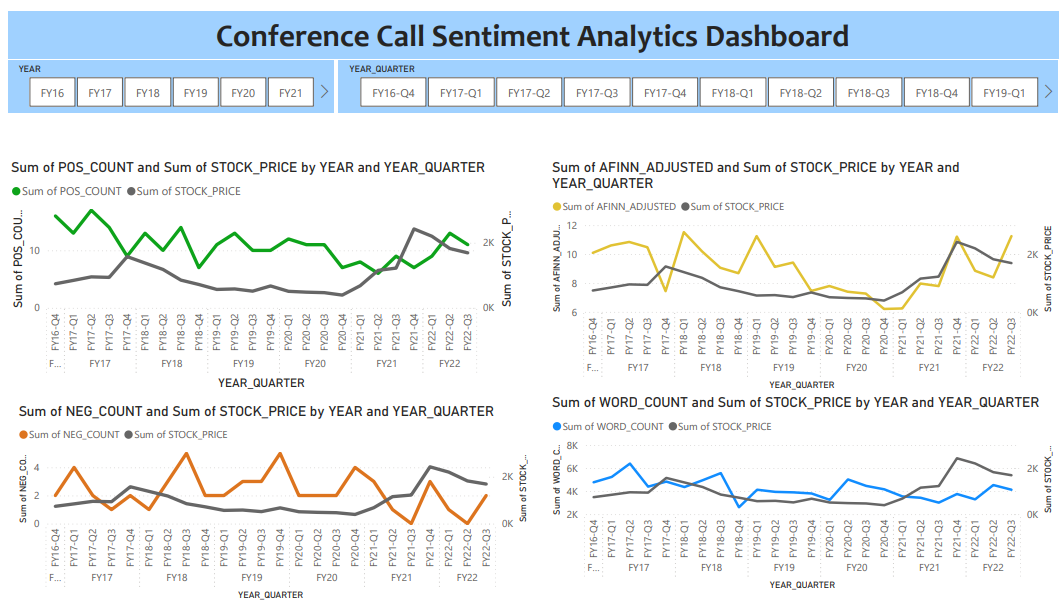

The dashboard page shown, as its layout file describes it:
{"tool":"powerbi","page":{"name":"Dashboard","canvas":[1280,720],"ordinal":5},"visuals":[{"type":"slicer","fields":{"Values":["sentiment_analysis (3).YEAR"]},"box":[12.5,69.2,391.3,62.6],"z":0},{"type":"slicer","fields":{"Values":["sentiment_analysis (3).YEAR_QUARTER"]},"box":[409.6,69.2,862.7,62.6],"z":1000},{"type":"textbox","box":[12.5,10.8,1259.8,56.7],"z":2000},{"type":"lineChart","fields":{"Category":["sentiment_analysis (3).YEAR","sentiment_analysis (3).YEAR_QUARTER"],"Y":["Sum(sentiment_analysis (3).POS_COUNT)"],"Y2":["Sum(sentiment_analysis (3).STOCK_PRICE)"]},"box":[12.4,187,611.8,281.7],"z":3000},{"type":"lineChart","fields":{"Category":["sentiment_analysis (3).YEAR","sentiment_analysis (3).YEAR_QUARTER"],"Y":["Sum(sentiment_analysis (3).NEG_COUNT)"],"Y2":["Sum(sentiment_analysis (3).STOCK_PRICE)"]},"box":[21.4,478.9,620.8,241.1],"z":4000},{"type":"lineChart","fields":{"Y":["Sum(sentiment_analysis (3).AFINN_ADJUSTED)"],"Y2":["Sum(sentiment_analysis (3).STOCK_PRICE)"],"Category":["sentiment_analysis (3).YEAR","sentiment_analysis (3).YEAR_QUARTER"]},"box":[661.4,187,610.7,281.7],"z":5000},{"type":"lineChart","fields":{"Y":["Sum(sentiment_analysis (3).WORD_COUNT)"],"Y2":["Sum(sentiment_analysis (3).STOCK_PRICE)"],"Category":["sentiment_analysis (3).YEAR","sentiment_analysis (3).YEAR_QUARTER"]},"box":[661.4,468.7,610.7,238.9],"z":6000}]}

Visuals, with their boxes in screenshot pixels (x1, y1, x2, y2), scaled from the page's 1280x720 canvas onto the 1060x601 screenshot:
slicer - sentiment_analysis (3).YEAR: locate(10, 58, 334, 110)
slicer - sentiment_analysis (3).YEAR_QUARTER: locate(339, 58, 1054, 110)
textbox: locate(10, 9, 1054, 56)
lineChart - sentiment_analysis (3).YEAR x sentiment_analysis (3).YEAR_QUARTER: locate(10, 156, 517, 391)
lineChart - sentiment_analysis (3).YEAR x sentiment_analysis (3).YEAR_QUARTER: locate(18, 400, 532, 600)
lineChart - Sum(sentiment_analysis (3).AFINN_ADJUSTED) x Sum(sentiment_analysis (3).STOCK_PRICE): locate(548, 156, 1053, 391)
lineChart - Sum(sentiment_analysis (3).WORD_COUNT) x Sum(sentiment_analysis (3).STOCK_PRICE): locate(548, 391, 1053, 591)
